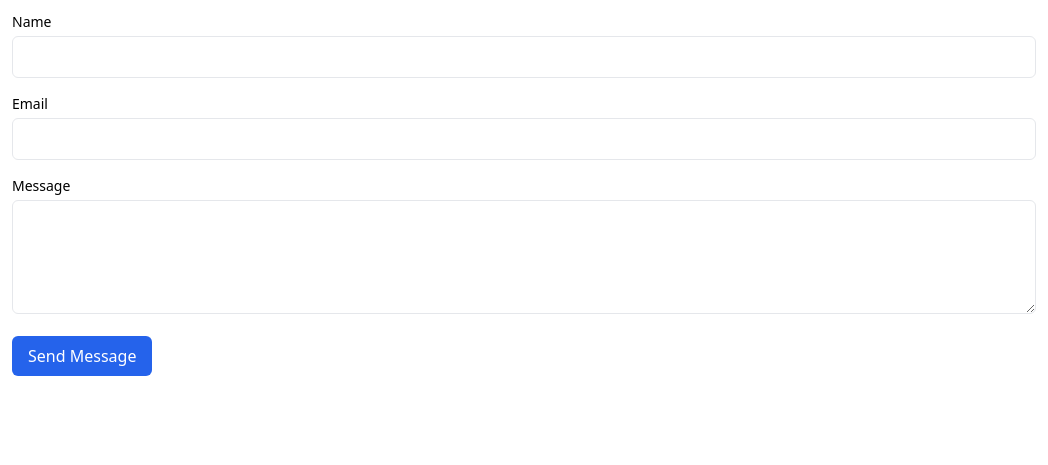
Test: ContactForm validation › clears errors when valid values are entered
Submit the form
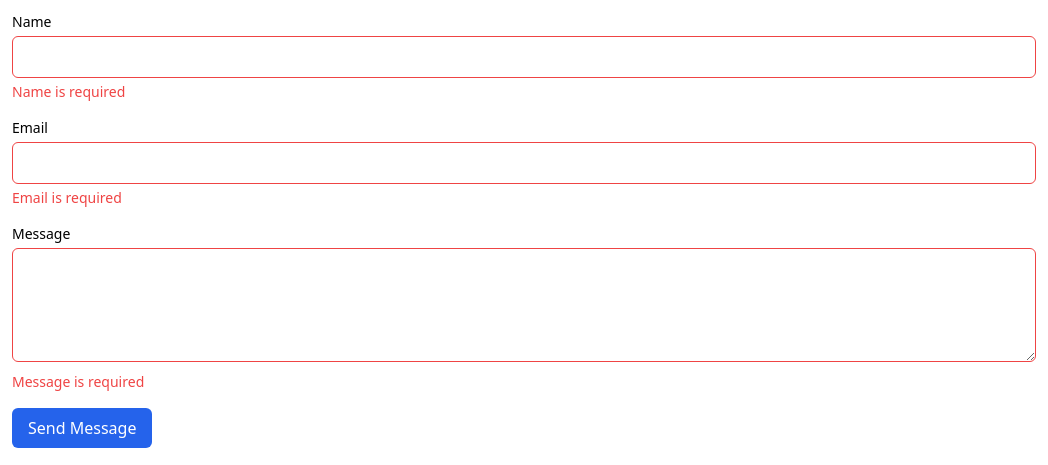
expect the form shows "Name is required": met, box [12,82,125,101]
Type "John Doe" into the field with id "name" at (524, 57), box [12,36,1036,78]
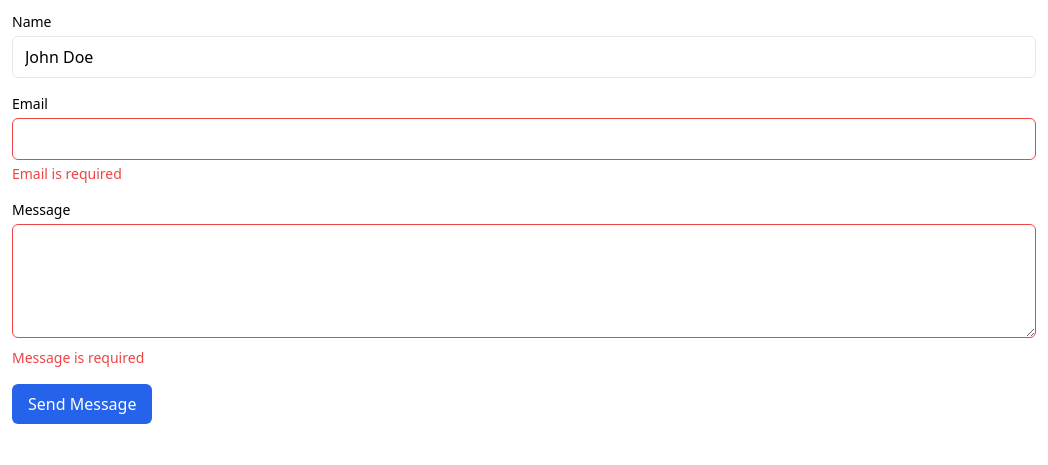
Type "john@example.com" into the field with id "email" at (524, 139), box [12,118,1036,160]
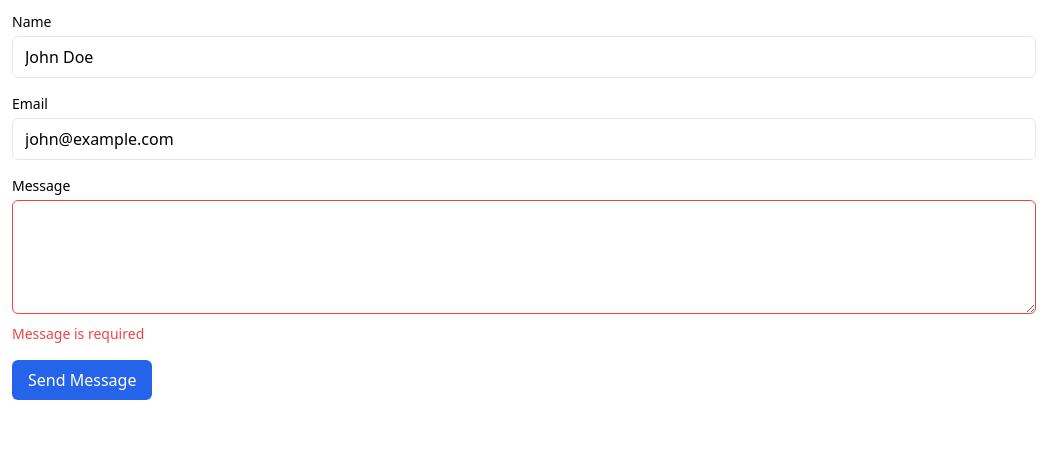
Type "Hello, this is a test message." into the text box with id "message" at (524, 257), box [12,200,1036,314]
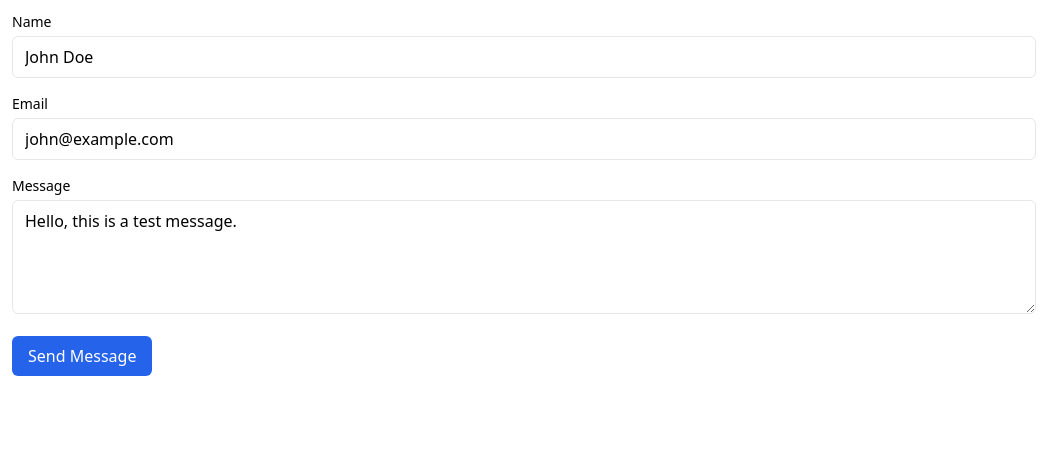
expect the message "Name is required" does not show "Name is required": met
expect the message "Message is required" no longer shows "Message is required": met
